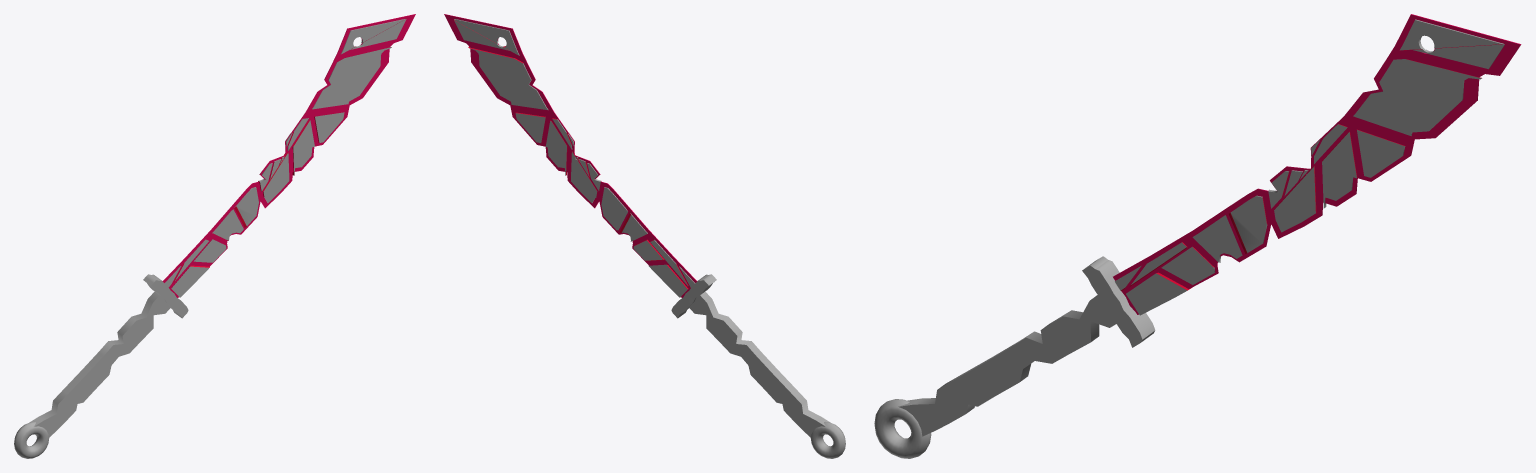
The model's file is Zanbato.fbx.
3 views of the same model, side by side, from view 1: azimuth 30°, elevation 25°; view 2: azimuth 150°, elevation 25°; view 3: azimuth 330°, elevation 25° (orthographic). The views are drawn at different scales.
Visible parts, largest first — view 1: sword_2; view 2: sword_2; view 3: sword_2.
Part boxes in pixels (box(x1,y1,x2,y2)): sword_2: box(14, 14, 415, 458); sword_2: box(444, 14, 845, 458); sword_2: box(874, 14, 1521, 458).
Size of the model in its own units: 2.2 by 1.85 by 0.0764.
